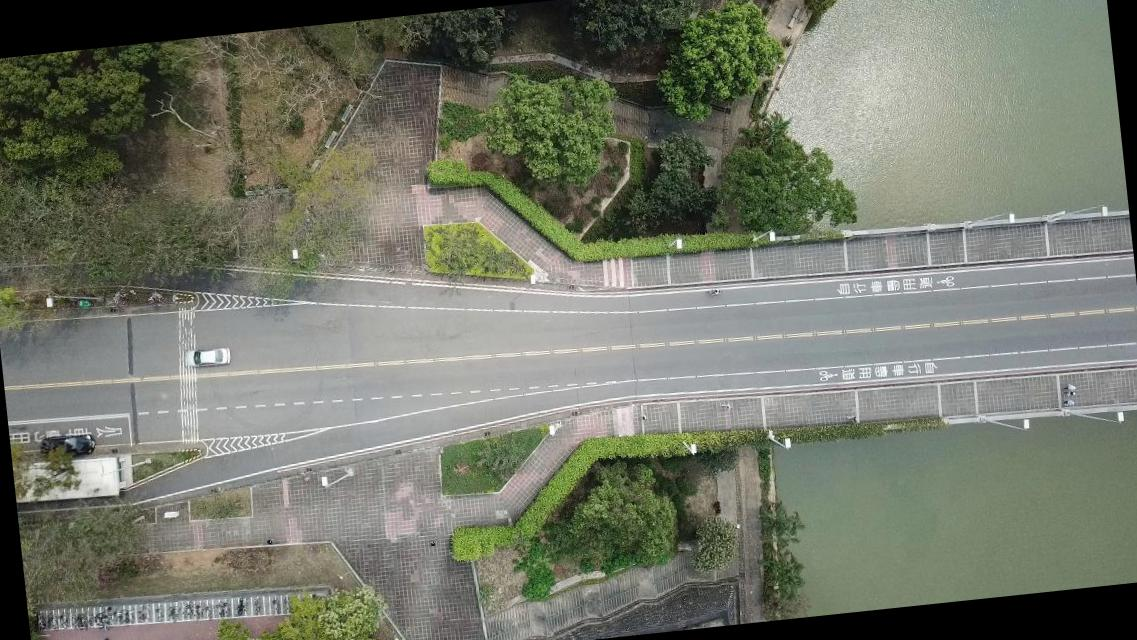vehicle: (38, 431, 94, 459), (184, 344, 231, 368)
